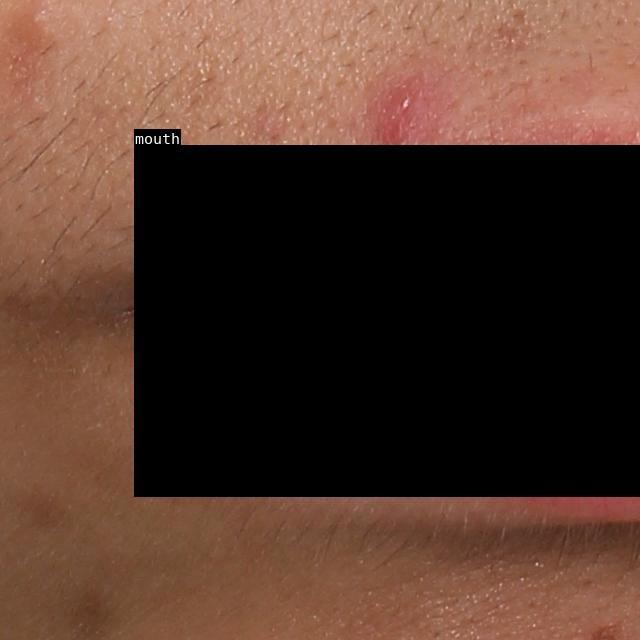papule: (370, 73, 436, 148)
